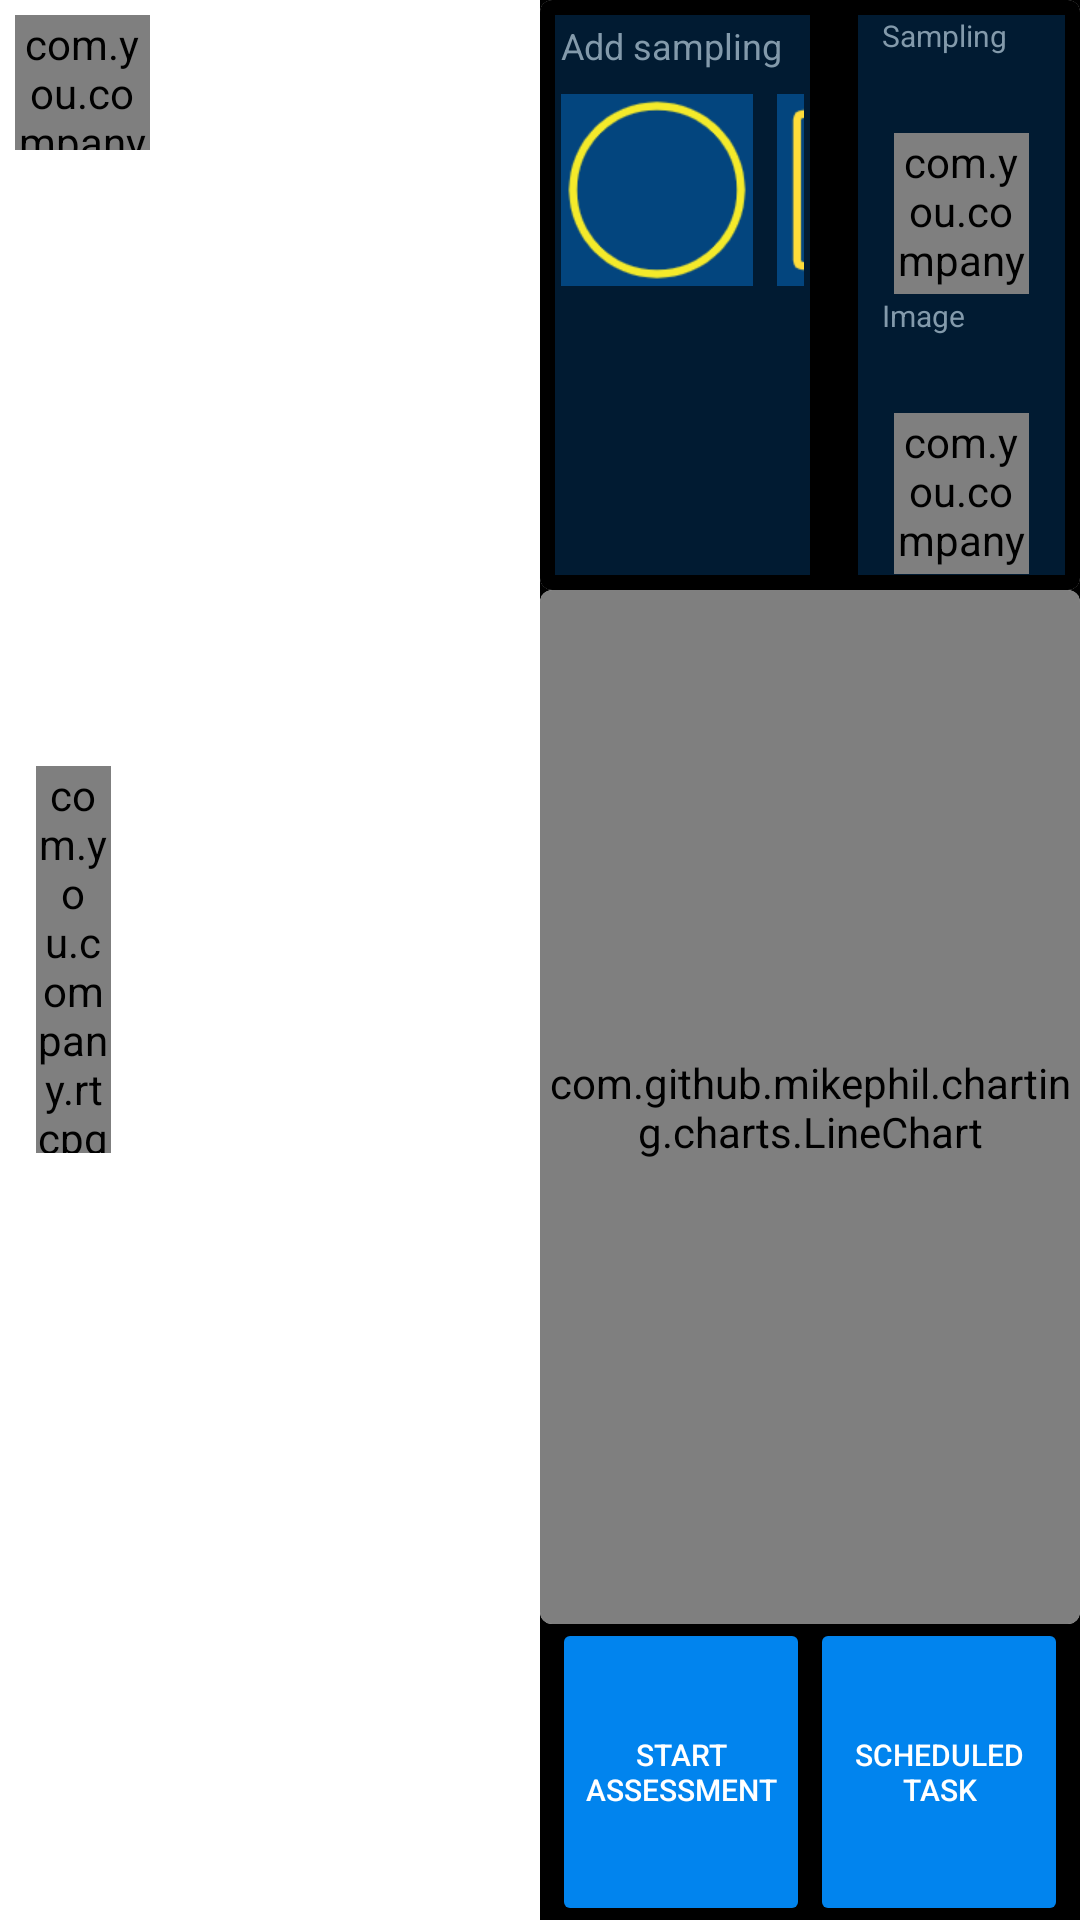

Named icons in this screenshot (1080w x 1920h) and their centers, (x,y):
circle: (657,190)
